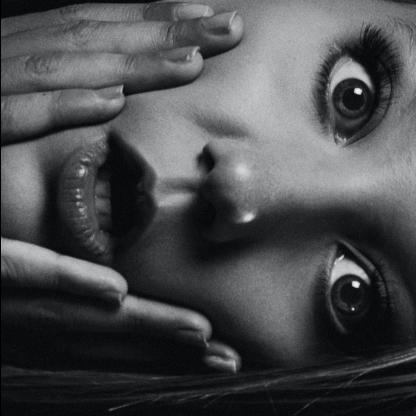Eye: (316, 239, 392, 367), (316, 28, 392, 149)
Mouth: (56, 136, 164, 264)
Nose: (190, 132, 354, 246)
